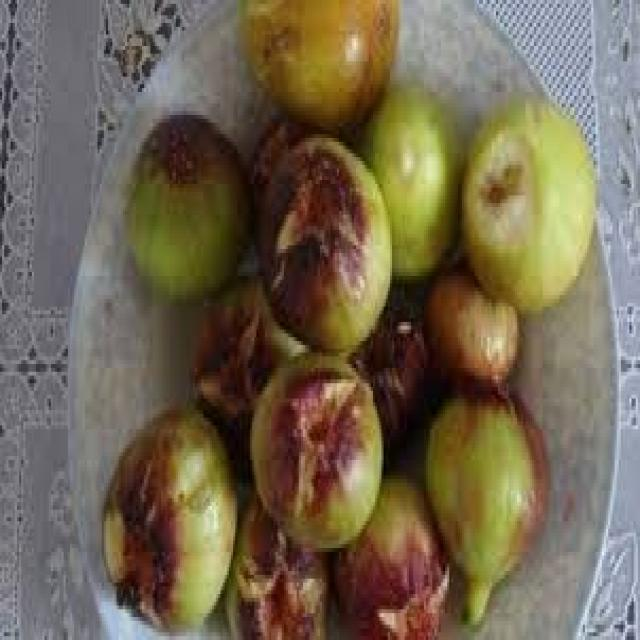organic waste: (100, 398, 235, 624), (252, 130, 390, 349), (422, 391, 546, 625), (460, 92, 591, 307), (246, 349, 379, 552), (191, 268, 305, 472), (125, 111, 248, 295), (235, 0, 398, 134), (356, 77, 458, 276), (331, 468, 447, 636), (220, 483, 324, 636), (420, 264, 519, 384), (350, 284, 424, 444), (248, 115, 322, 234)
